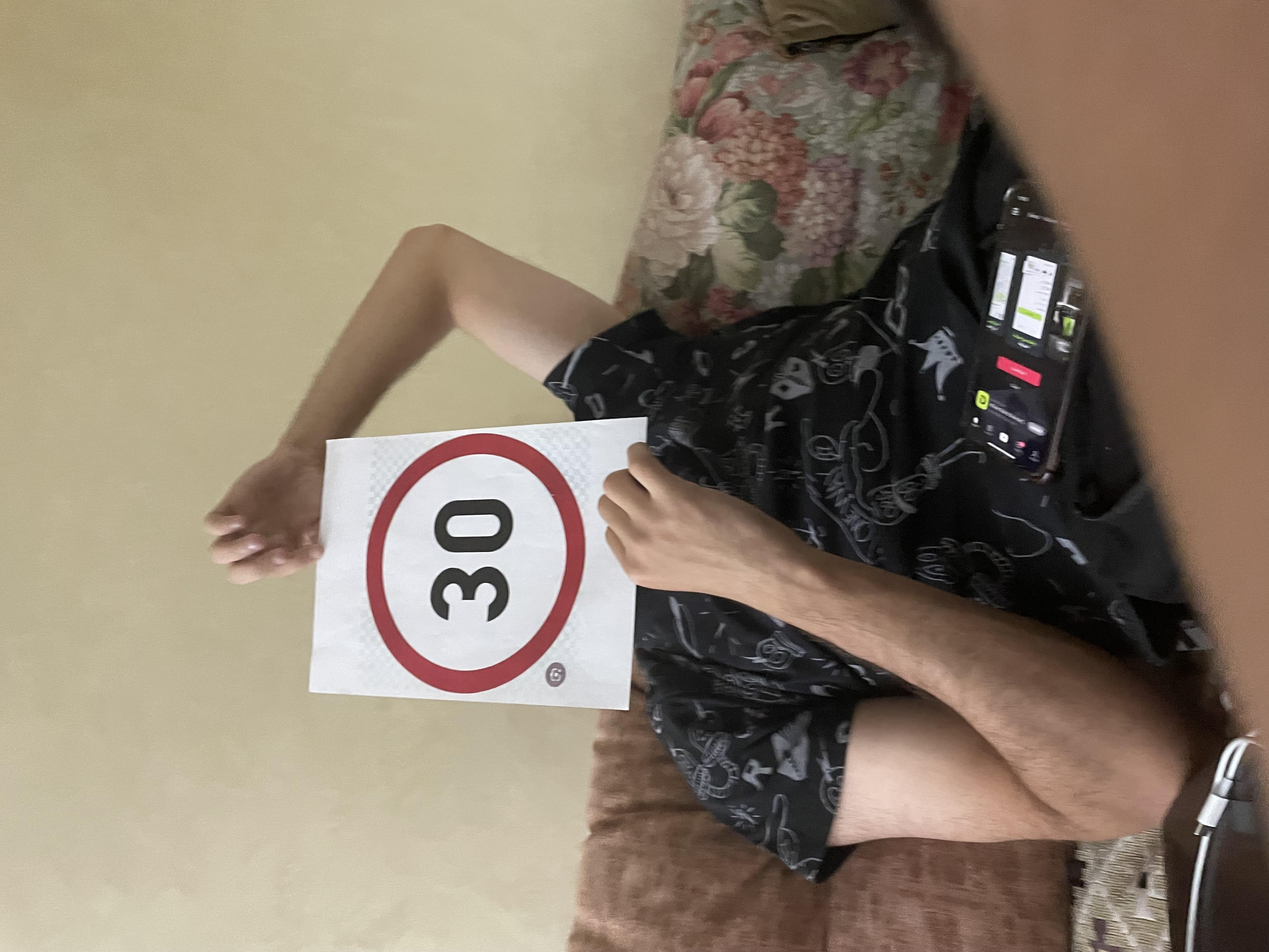30-speed: (345, 270, 704, 445)
